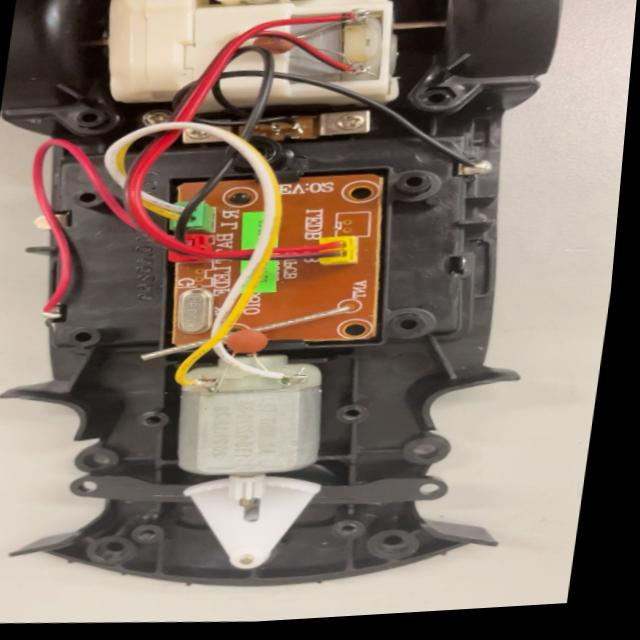motor: (142, 347, 353, 518)
